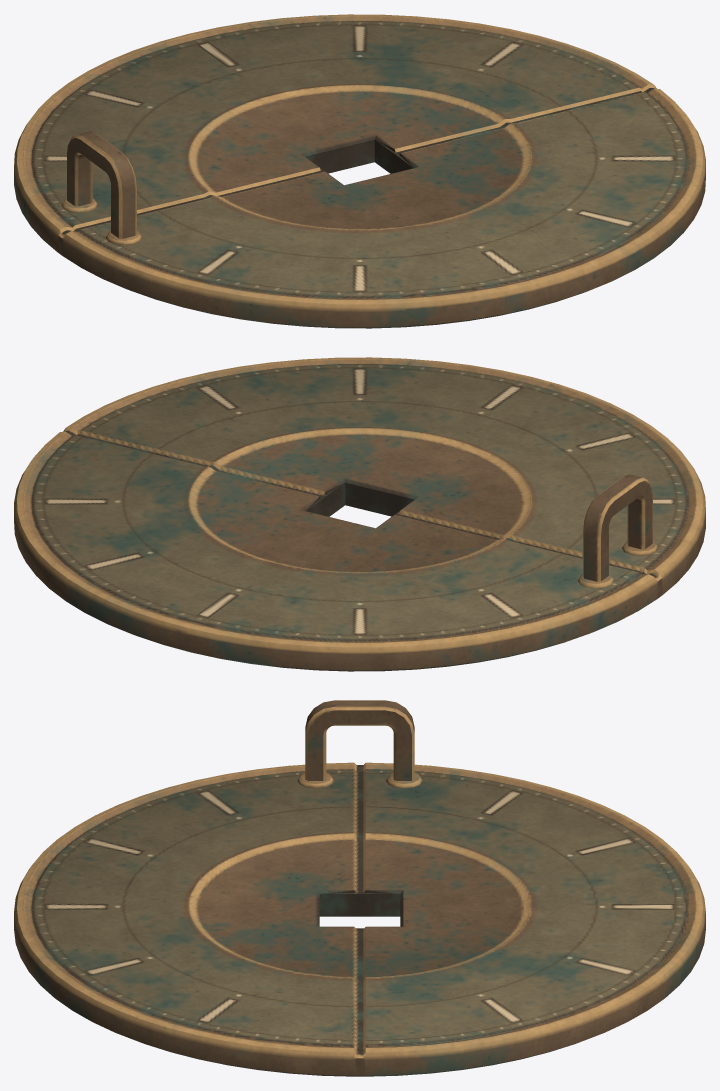
The model's file is Outer.fbx.
3 renders of one model, top to bottom at view 1: azimuth 30°, elevation 25°; view 2: azimuth 150°, elevation 25°; view 3: azimuth 270°, elevation 25°, orthographic.
Visible parts, largest first — view 1: Outer; view 2: Outer; view 3: Outer.
Part boxes in pixels (box(x1,y1,x2,y2)): Outer: box(14, 14, 705, 328); Outer: box(14, 357, 705, 671); Outer: box(14, 700, 705, 1076).
Bounding box in the file's own units: 0.36 × 0.0599 × 0.36.
Materials: 1 (1 with a texture image).
